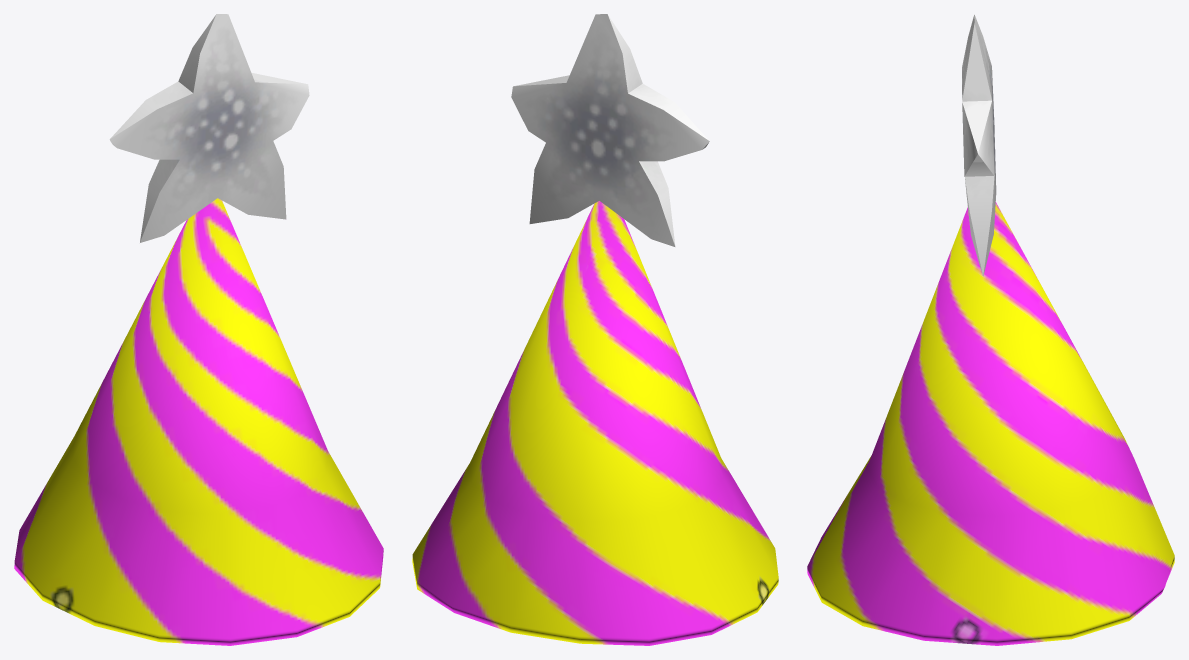
Rendered from GorroDeFiesta.fbx.
The picture shows the model from 3 angles, left to right: view 1: azimuth 30°, elevation 25°; view 2: azimuth 150°, elevation 25°; view 3: azimuth 270°, elevation 25°; orthographic projection.
Visible parts, largest first — view 1: head_087005587; view 2: head_087005587; view 3: head_087005587.
Boxes of the visible parts, bbox=[...] form: head_087005587: bbox=[14, 14, 383, 645]; head_087005587: bbox=[412, 14, 778, 645]; head_087005587: bbox=[807, 14, 1174, 645].
Size of the model in its own units: 126 by 212 by 126.
Materials: 1 (1 with a texture image).
